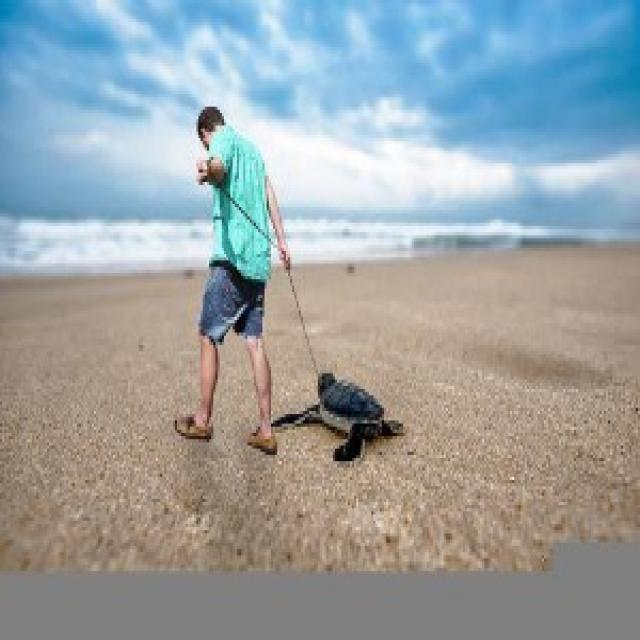Sea turtle: (288, 352, 413, 504)
